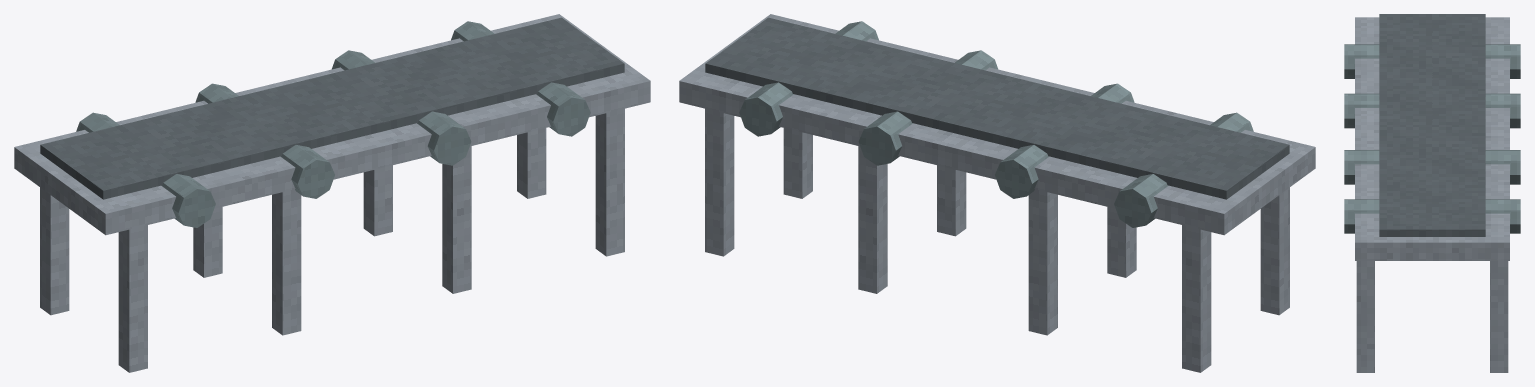
File: level_blockout_cannery_conveyor.glb
3 views of the same model, side by side, from view 1: azimuth 30°, elevation 25°; view 2: azimuth 150°, elevation 25°; view 3: azimuth 270°, elevation 25° (orthographic). The views are drawn at different scales.
Parts seen in each view (by area): view 1: level_blockout_cannery_conveyor; view 2: level_blockout_cannery_conveyor; view 3: level_blockout_cannery_conveyor.
Boxes of the visible parts, bbox=[...] form: level_blockout_cannery_conveyor: bbox=[14, 14, 650, 372]; level_blockout_cannery_conveyor: bbox=[679, 14, 1315, 372]; level_blockout_cannery_conveyor: bbox=[1344, 14, 1520, 372].
Size of the model in its own units: 3.2 by 0.985 by 1.06.
3 materials, 3 textured.
